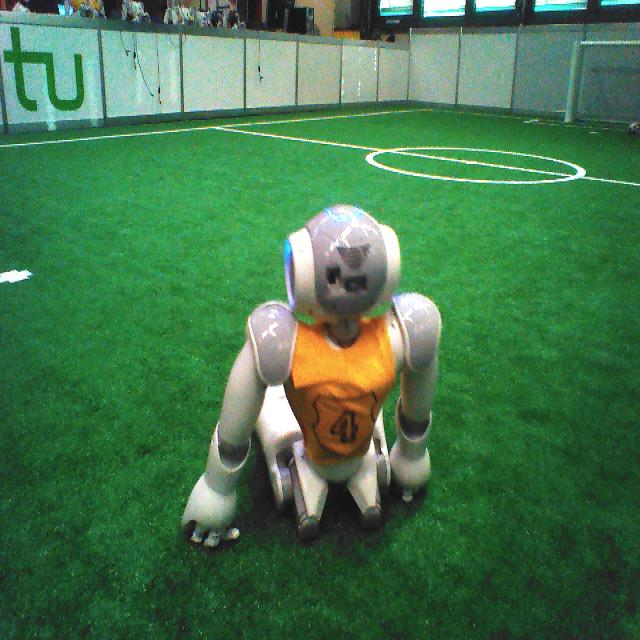ball: (629, 120, 640, 133)
goalpost: (563, 41, 583, 123)
